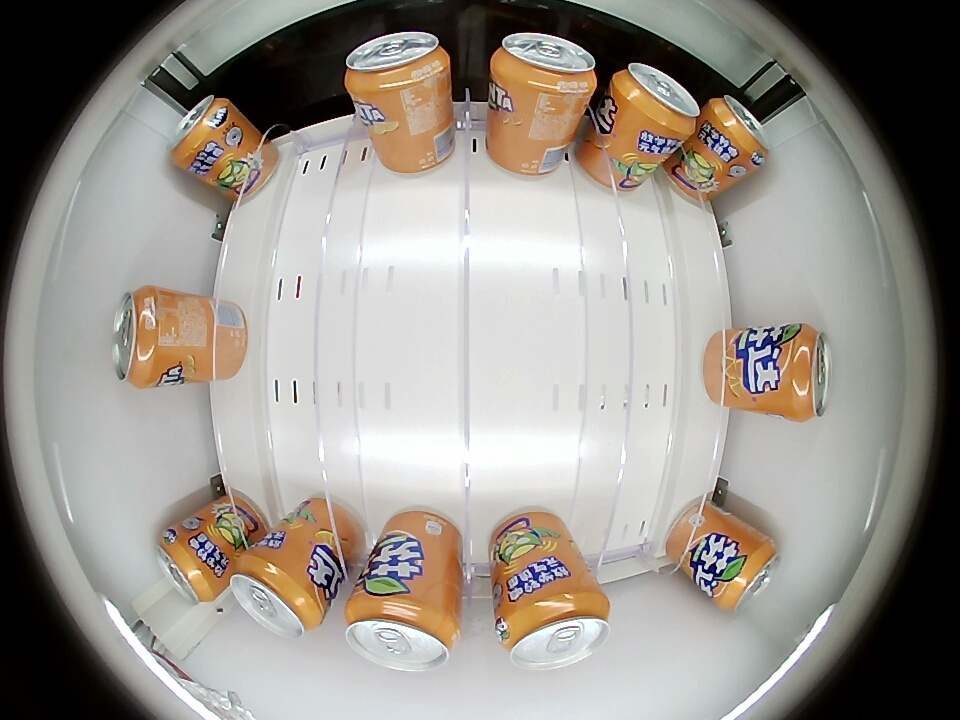fenda: (343, 588, 460, 672), (498, 586, 612, 670), (230, 554, 323, 639), (491, 33, 598, 103), (344, 32, 450, 102), (612, 63, 700, 140), (112, 286, 173, 389), (779, 324, 831, 423), (155, 527, 219, 605), (719, 534, 780, 611), (169, 95, 231, 170), (707, 94, 770, 166)
